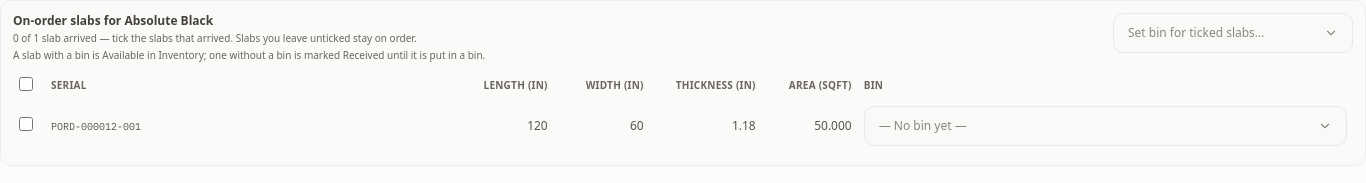
OnOrderSlabChecklist › offers the all-at-once bin only once something is ticked
Expected: the dropdown labelled "Set bin for ticked slabs" is disabled, [1113,13,1353,53]
Click the checkbox named "Slab PORD-000012-001 arrived".
click(26, 124)  # box [19,117,33,131]
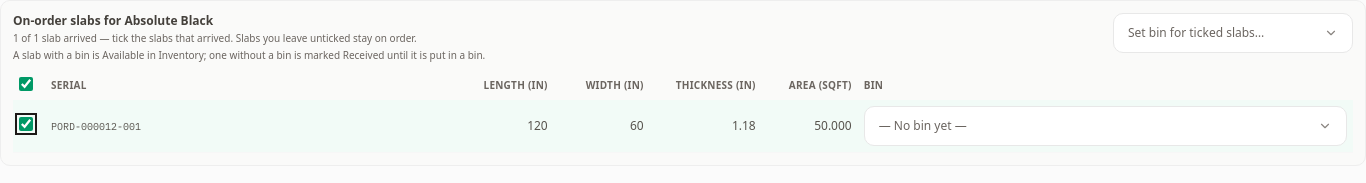
Result: the dropdown labelled "Set bin for ticked slabs" is enabled at [1113,13,1353,53]
